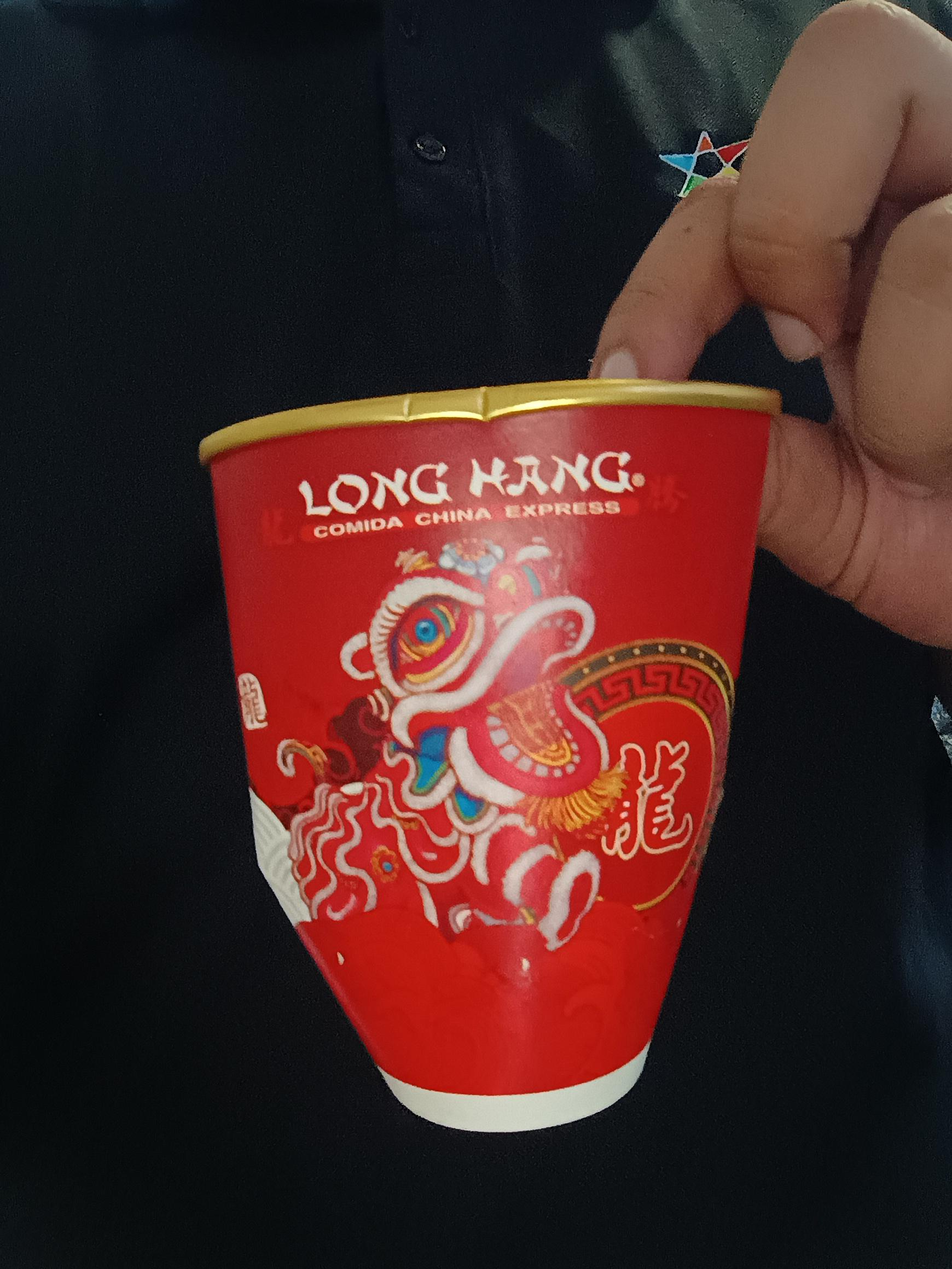Carton: (204, 377, 777, 1134)
